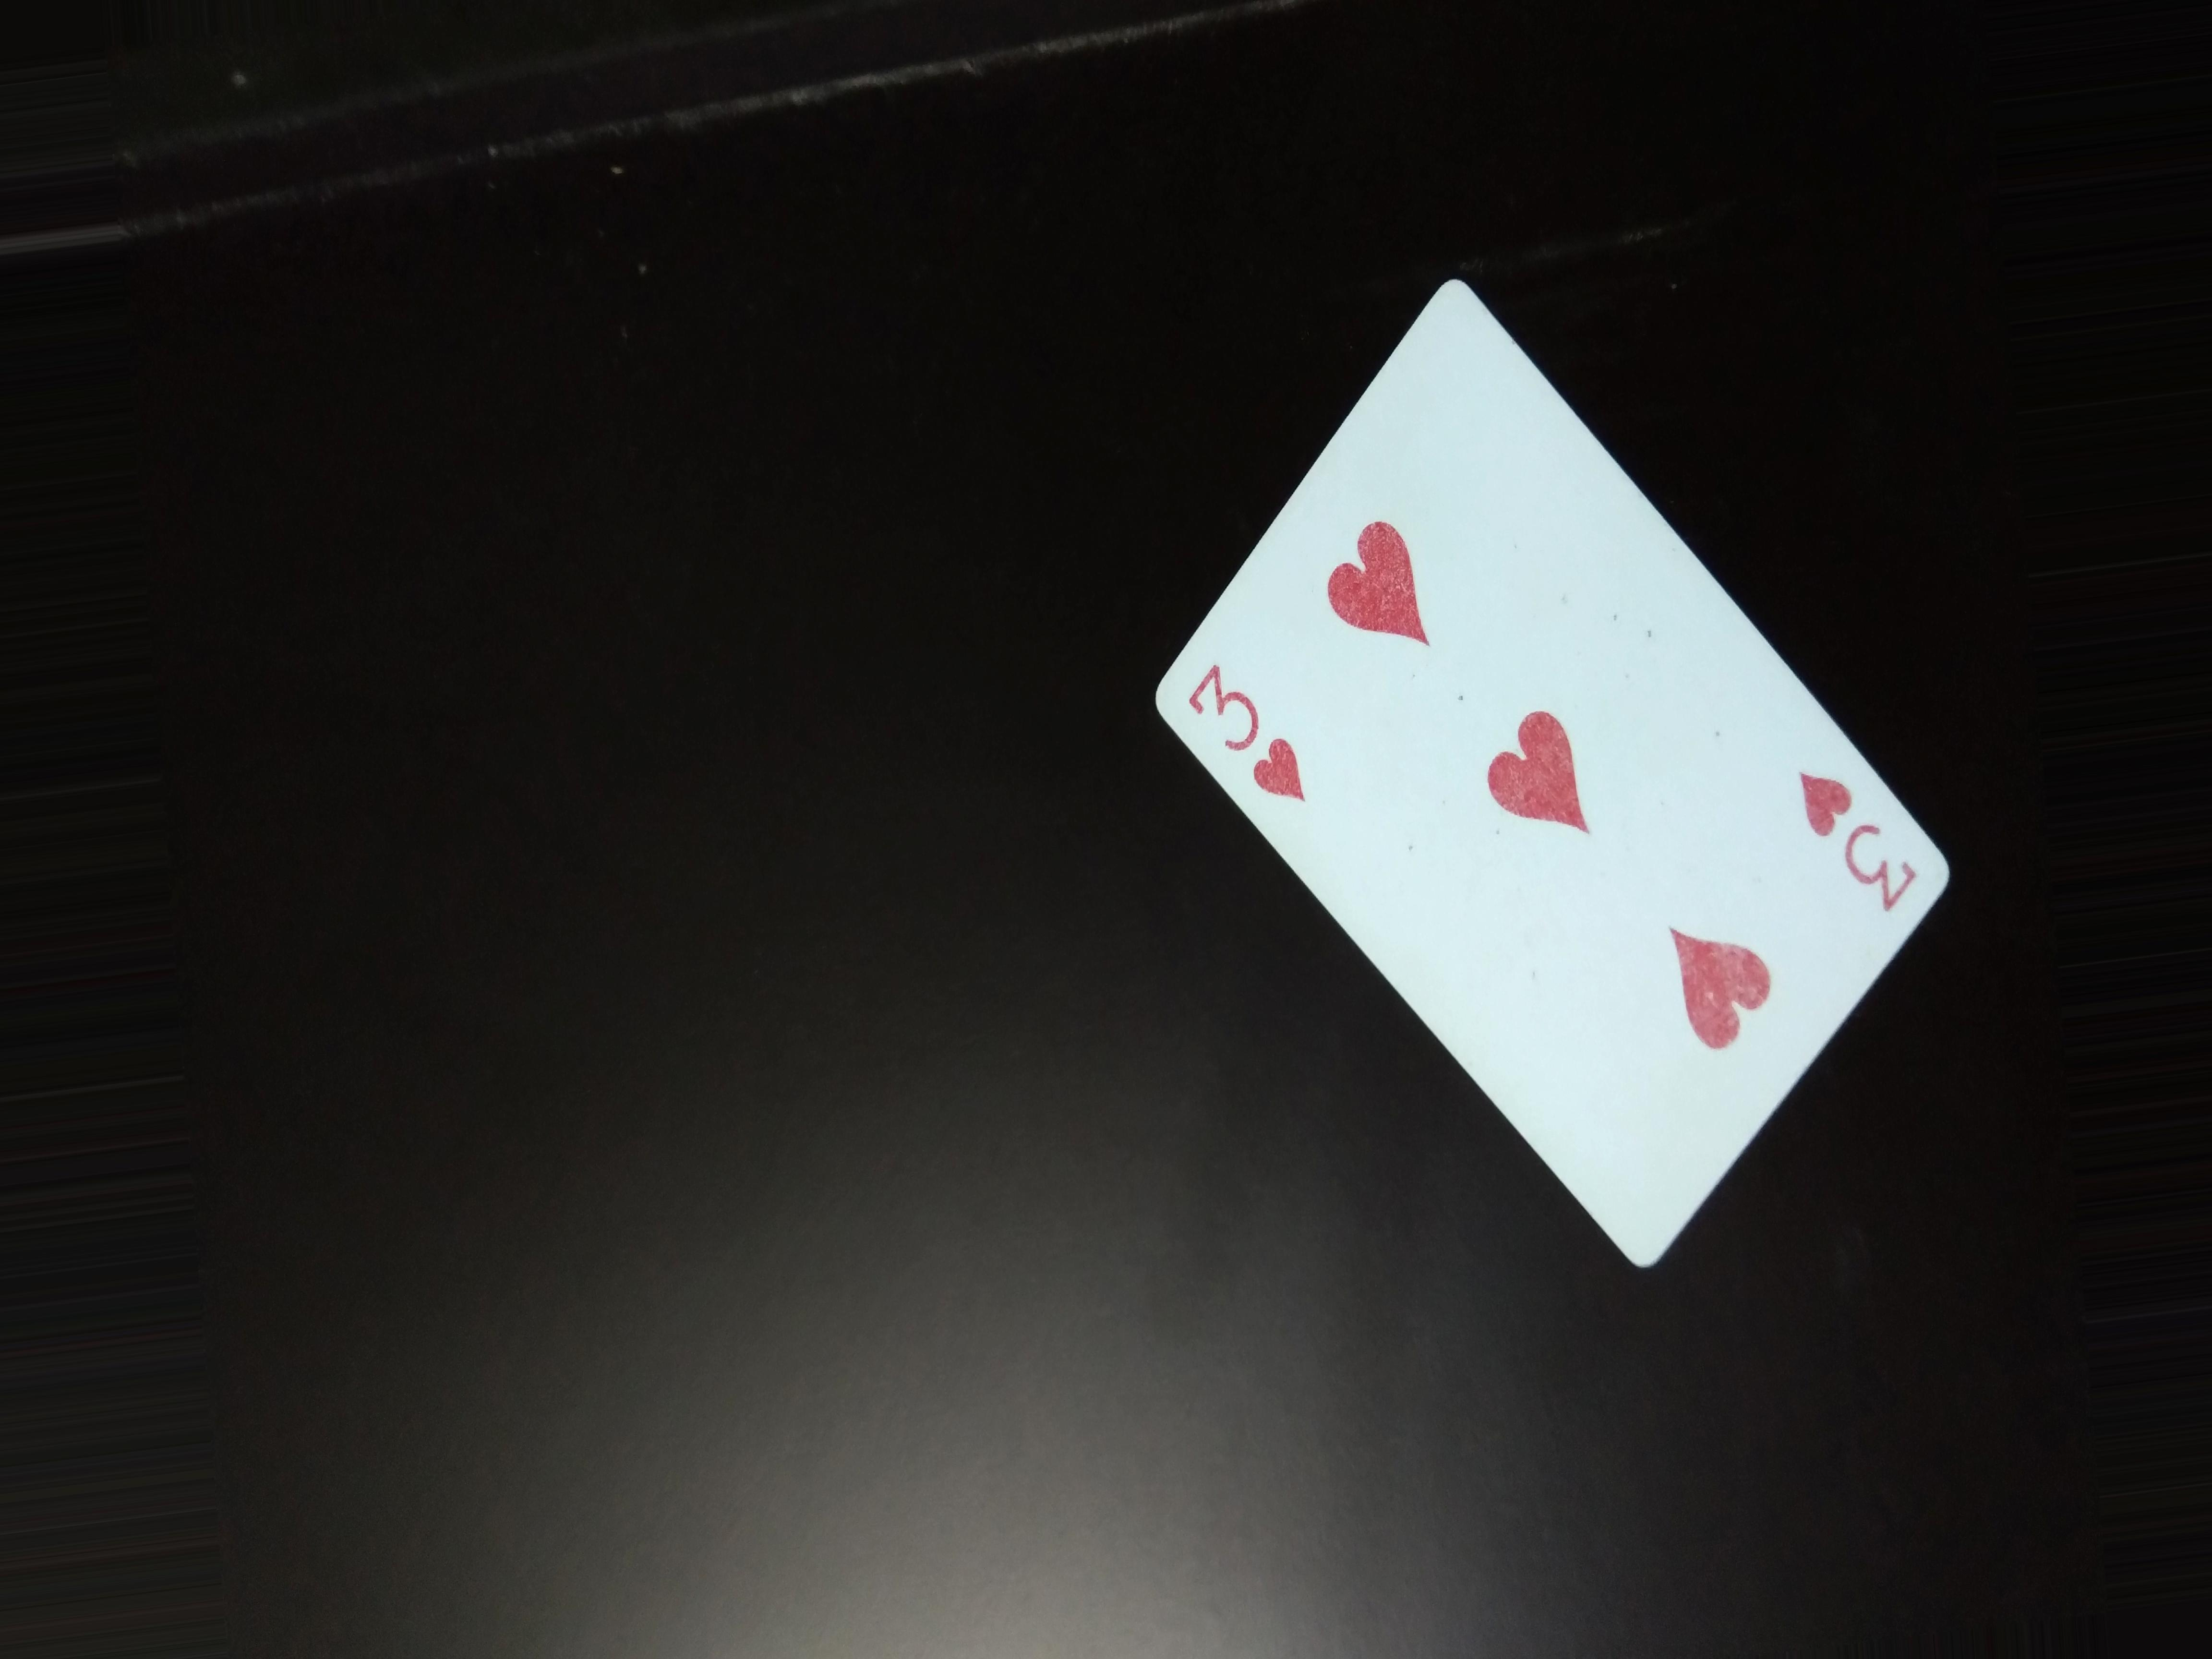3H: (1167, 660, 1315, 803)
